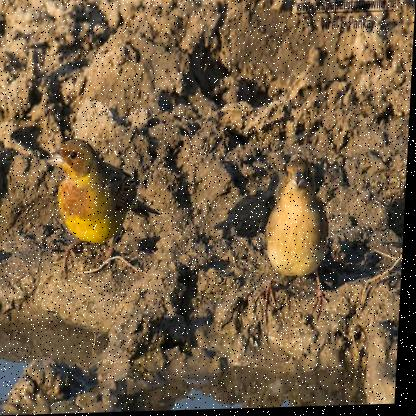Burung: (43, 138, 162, 282), (264, 157, 341, 312)
